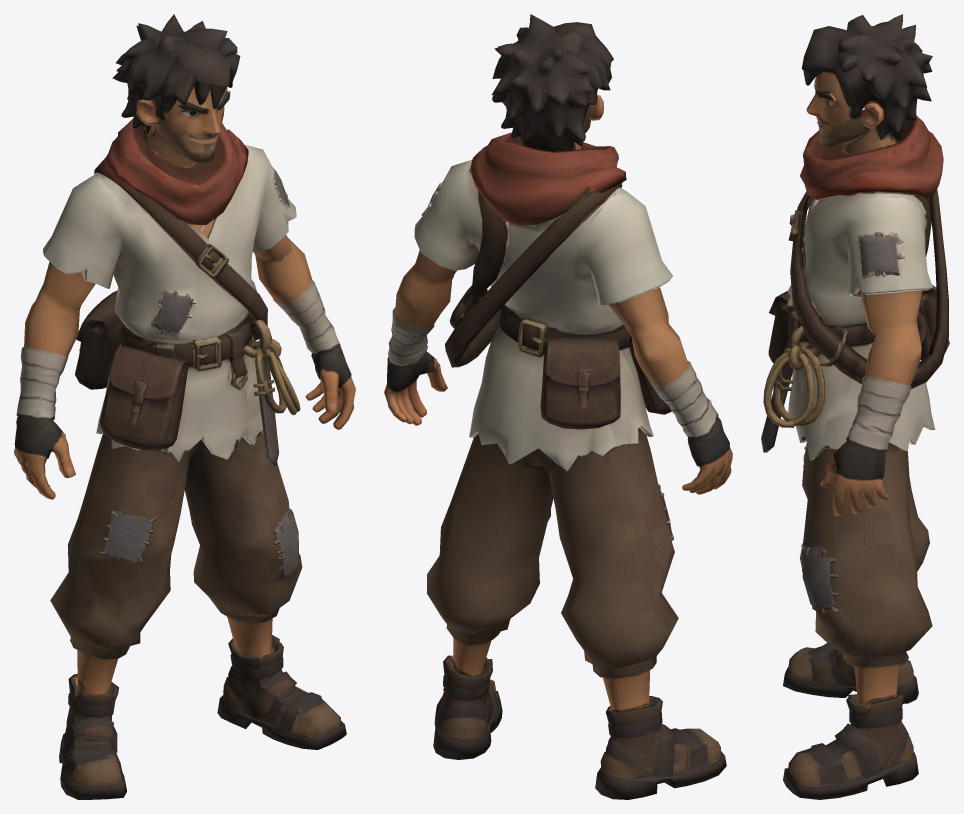
The model's file is character-protagonist-with-4k-texture-3d.glb.
3 views of the same model, side by side, from view 1: azimuth 30°, elevation 25°; view 2: azimuth 150°, elevation 25°; view 3: azimuth 270°, elevation 25° (orthographic). The views are drawn at different scales.
Parts seen in each view (by area): view 1: tripo_956a3af8_2883_4d08_9ad7_843b0d83a065; view 2: tripo_956a3af8_2883_4d08_9ad7_843b0d83a065; view 3: tripo_956a3af8_2883_4d08_9ad7_843b0d83a065.
Part boxes in pixels (x1,y1,x2,y2): tripo_956a3af8_2883_4d08_9ad7_843b0d83a065: (14,14,355,799); tripo_956a3af8_2883_4d08_9ad7_843b0d83a065: (384,14,732,799); tripo_956a3af8_2883_4d08_9ad7_843b0d83a065: (761,14,949,799).
Bounding box in the file's own units: 0.4819 × 0.9995 × 0.2407.
1 material, 1 textured.
